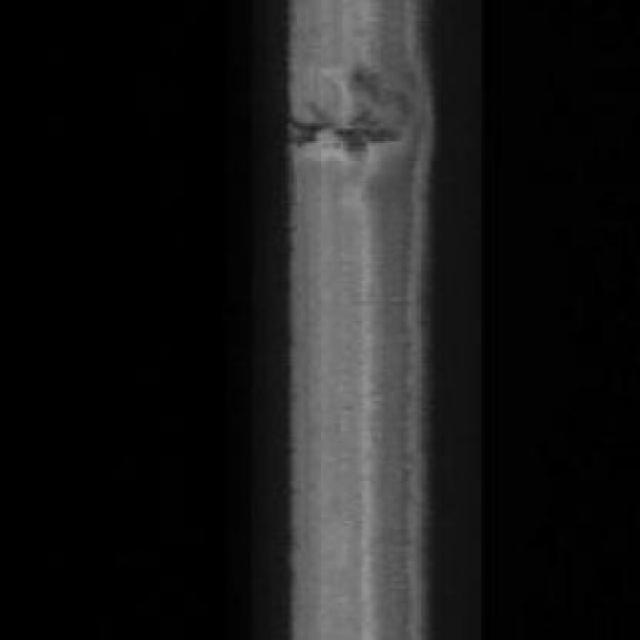defective: (244, 2, 475, 271)
